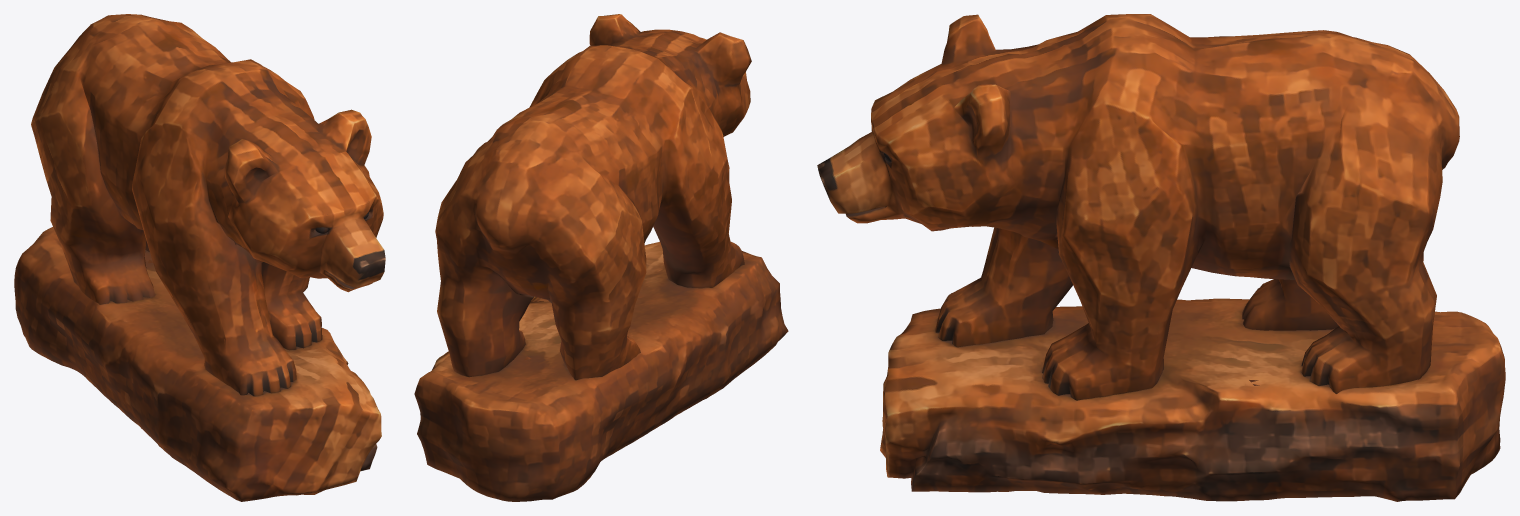
The model's file is carved_bear.glb.
The picture shows the model from 3 angles, left to right: view 1: azimuth 30°, elevation 25°; view 2: azimuth 150°, elevation 25°; view 3: azimuth 270°, elevation 25°; orthographic projection. The views are drawn at different scales.
Visible parts, largest first — view 1: geometry_0; view 2: geometry_0; view 3: geometry_0.
Boxes of the visible parts, x1,y1,x2,y2 form: geometry_0: [14, 14, 385, 501]; geometry_0: [414, 14, 788, 501]; geometry_0: [817, 14, 1505, 501].
Bounding box in the file's own units: 0.3657 × 0.666 × 0.9604.
Materials: 1 (1 with a texture image).
